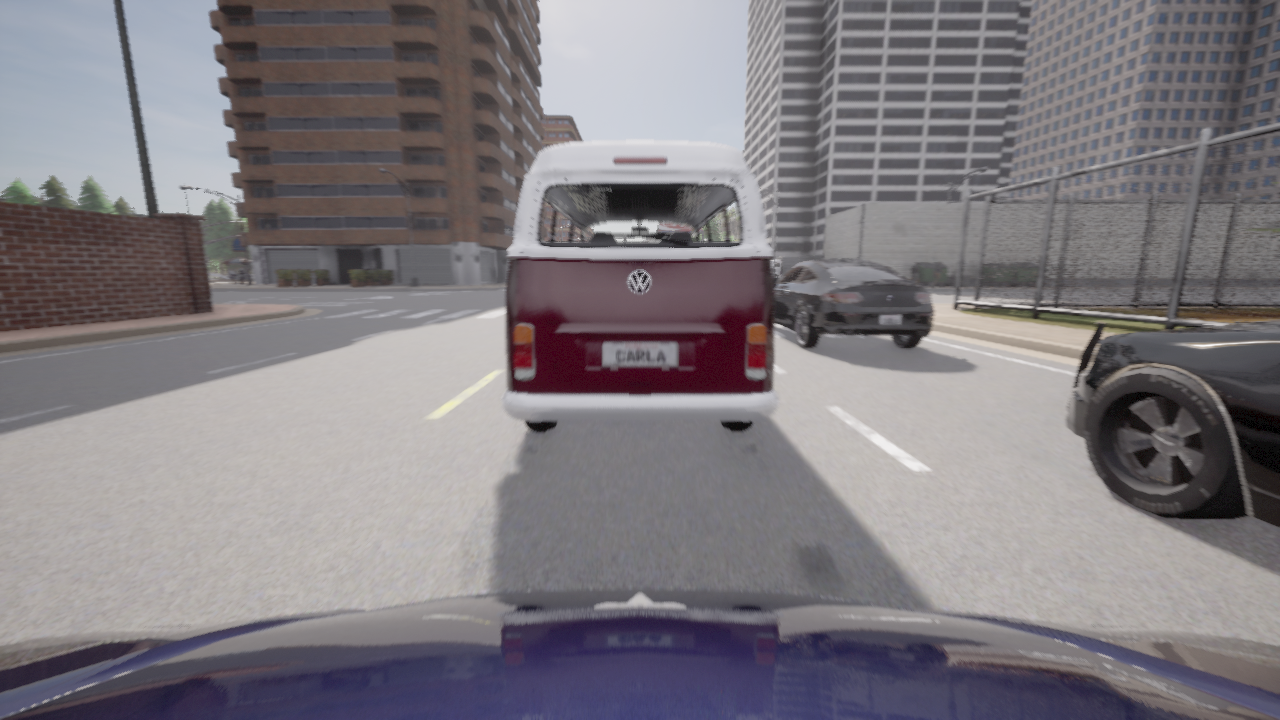cyclist: (0, 588, 1279, 719), (501, 140, 778, 431), (1064, 321, 1279, 527), (773, 259, 933, 348), (771, 256, 822, 280), (771, 258, 773, 259)
pedestrian: (931, 261, 945, 287), (910, 261, 919, 283)
